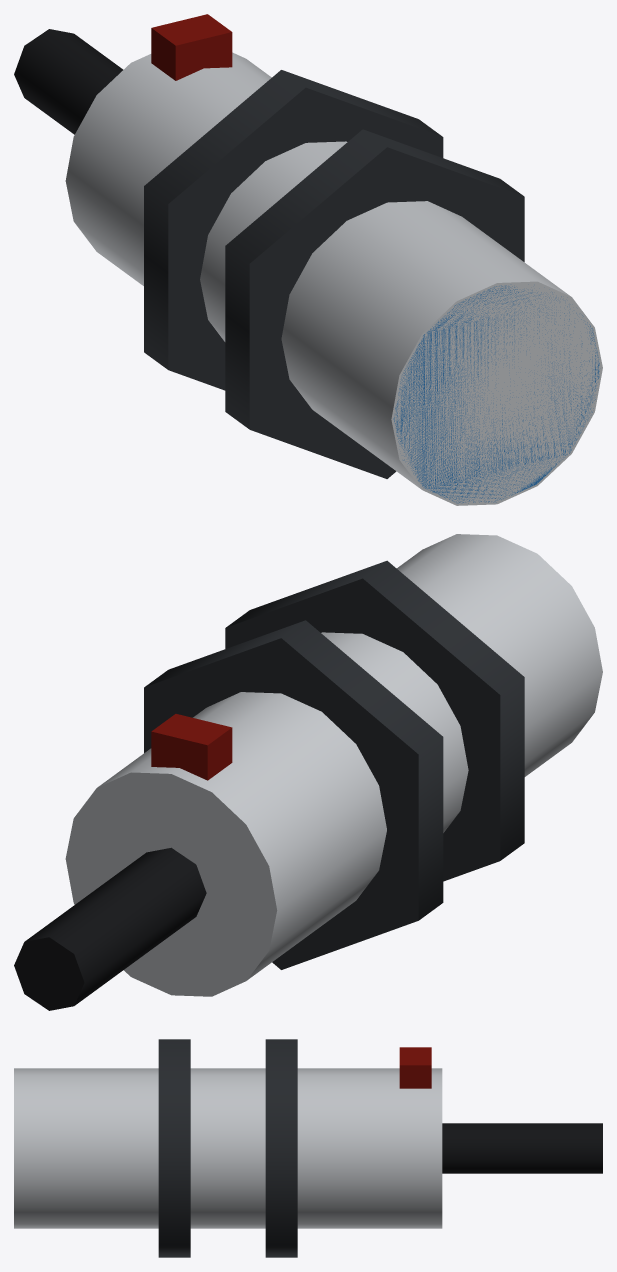
File: inductive_sensor.glb
3 renders of one model, top to bottom at view 1: azimuth 30°, elevation 25°; view 2: azimuth 150°, elevation 25°; view 3: azimuth 270°, elevation 25°, orthographic. The views are drawn at different scales.
Visible parts, largest first — view 1: Sensor_Static, SensorLed; view 2: Sensor_Static, SensorLed; view 3: Sensor_Static, SensorLed.
Part boxes in pixels (x1,y1,x2,y2): Sensor_Static: [14, 29, 602, 505]; SensorLed: [151, 14, 232, 80]; Sensor_Static: [14, 534, 602, 1010]; SensorLed: [151, 714, 232, 780]; Sensor_Static: [14, 1039, 602, 1257]; SensorLed: [399, 1047, 431, 1088].
Bounding box in the file's own units: 0.039 × 0.045 × 0.11.
